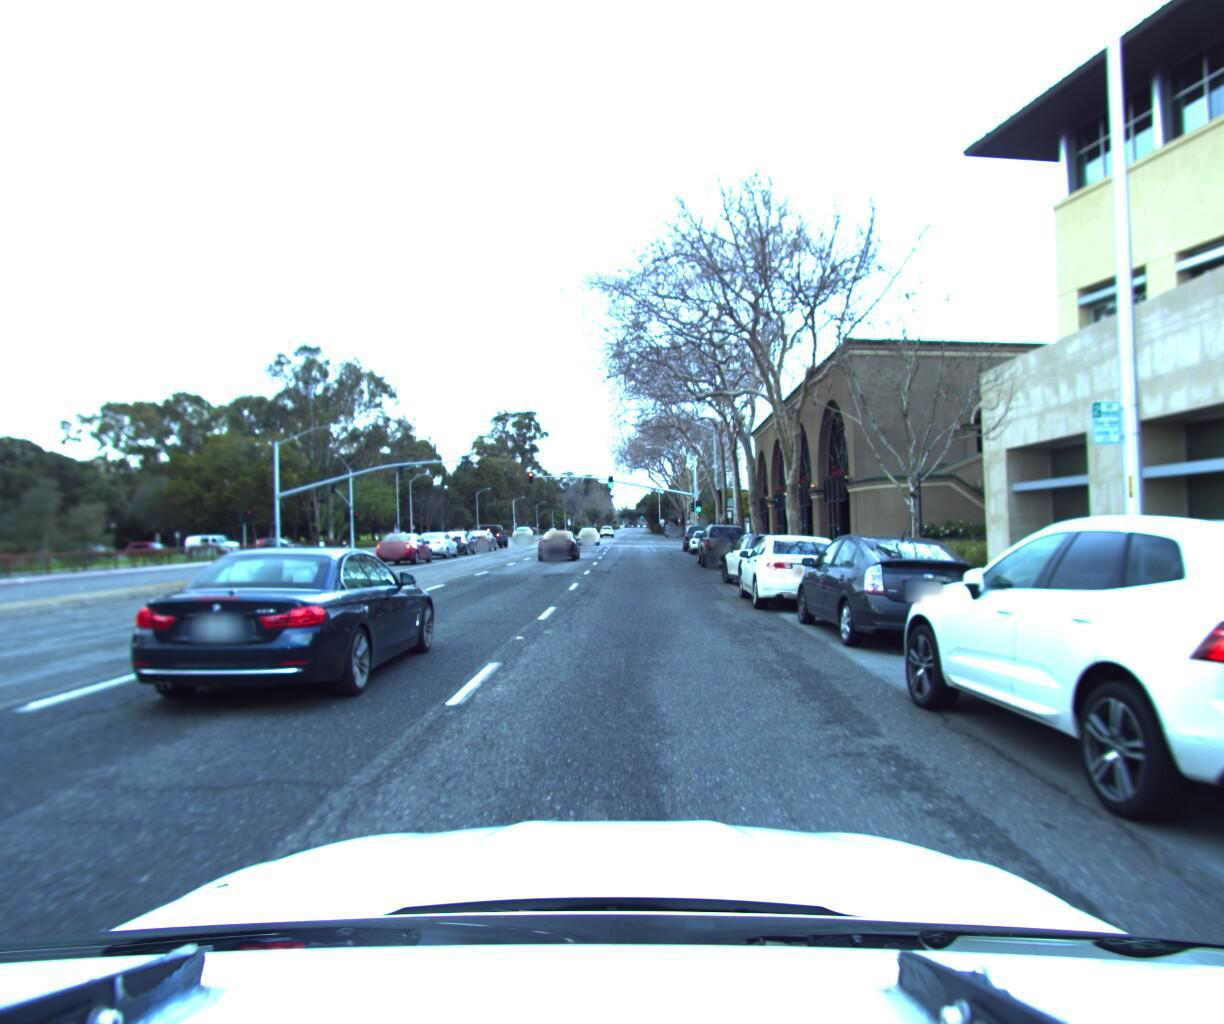car: (881, 483, 1224, 910), (111, 535, 444, 722), (786, 522, 1012, 657), (735, 526, 869, 612), (719, 530, 824, 587), (362, 529, 439, 565), (699, 517, 755, 566), (535, 523, 580, 557), (413, 529, 463, 558), (439, 527, 482, 554), (250, 533, 304, 553), (686, 523, 721, 550), (683, 519, 714, 548), (464, 527, 503, 549), (477, 521, 511, 546), (578, 524, 602, 543)
